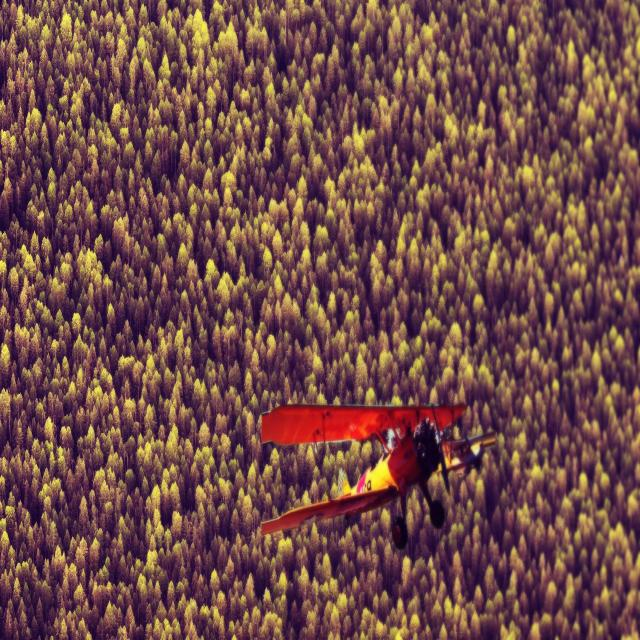airplane: (259, 402, 496, 549)
